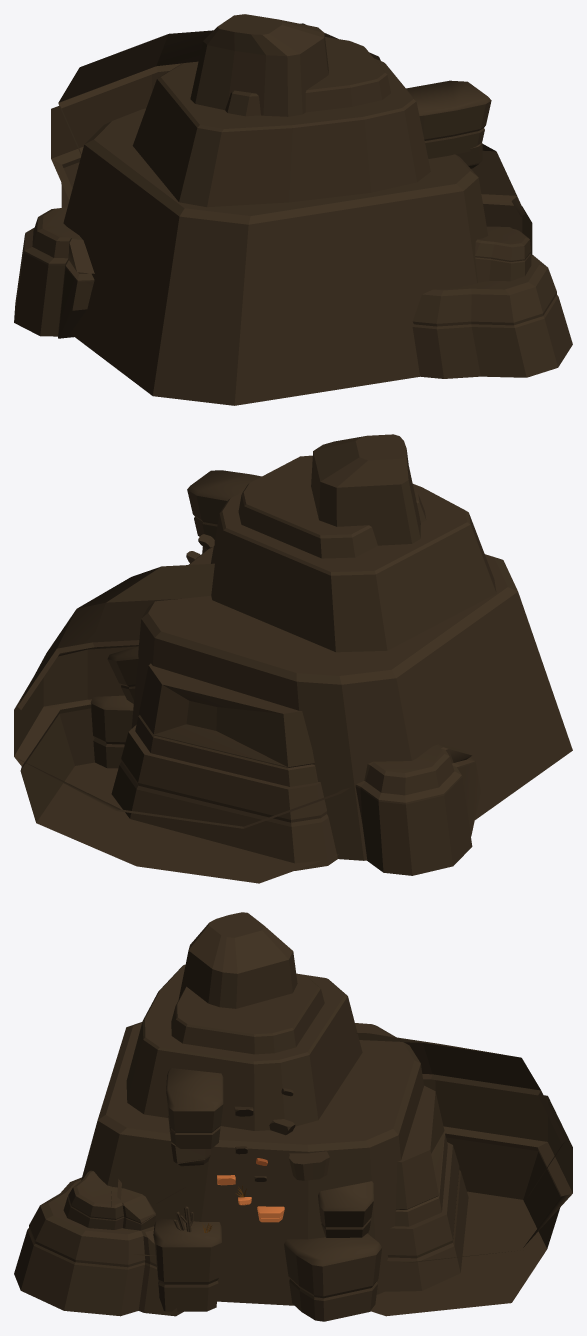
File: MOUNTAIN NEW TEST.fbx
The picture shows the model from 3 angles, top to bottom: view 1: azimuth 30°, elevation 25°; view 2: azimuth 150°, elevation 25°; view 3: azimuth 270°, elevation 25°; orthographic projection. The views are drawn at different scales.
Visible parts, largest first — view 1: Plane_002, Plane_007, Plane_4; view 2: Plane_002, Plane_007, Plane_5, Plane_4, Plane_7; view 3: Plane_002, Plane_007, Plane_5, Plane_2, Plane_4, Plane_7, Plane_082, Plane_3.
Part boxes in pixels (bbox=[...]): Plane_002: bbox=[14, 14, 572, 405]; Plane_007: bbox=[51, 23, 532, 255]; Plane_4: bbox=[406, 80, 491, 158]; Plane_002: bbox=[111, 434, 572, 875]; Plane_007: bbox=[14, 546, 350, 883]; Plane_5: bbox=[90, 695, 133, 768]; Plane_4: bbox=[187, 470, 261, 539]; Plane_7: bbox=[107, 646, 138, 703]; Plane_002: bbox=[14, 912, 468, 1316]; Plane_007: bbox=[111, 1033, 572, 1316]; Plane_5: bbox=[284, 1233, 382, 1321]; Plane_2: bbox=[153, 1218, 221, 1311]; Plane_4: bbox=[166, 1068, 223, 1148]; Plane_7: bbox=[318, 1181, 373, 1237]; Plane_082: bbox=[289, 1151, 329, 1180]; Plane_3: bbox=[171, 1140, 210, 1166].
Bounding box in the file's own units: 3743 × 2945 × 4961.
